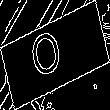O_S: (35, 24, 75, 86)
